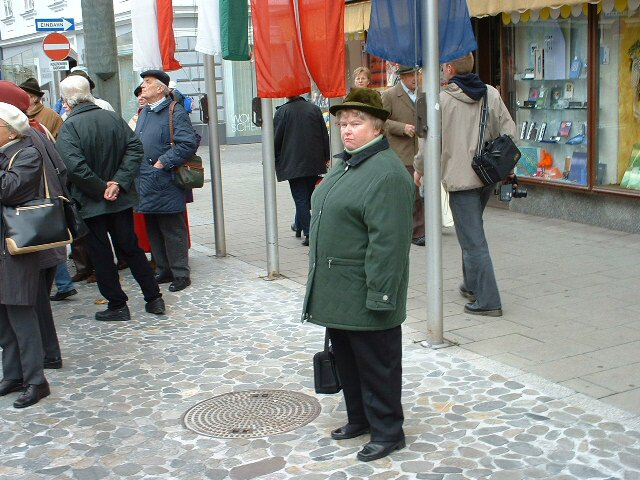person: (299, 85, 436, 465), (56, 73, 166, 318), (434, 47, 518, 320), (1, 99, 67, 407), (133, 66, 210, 295)
